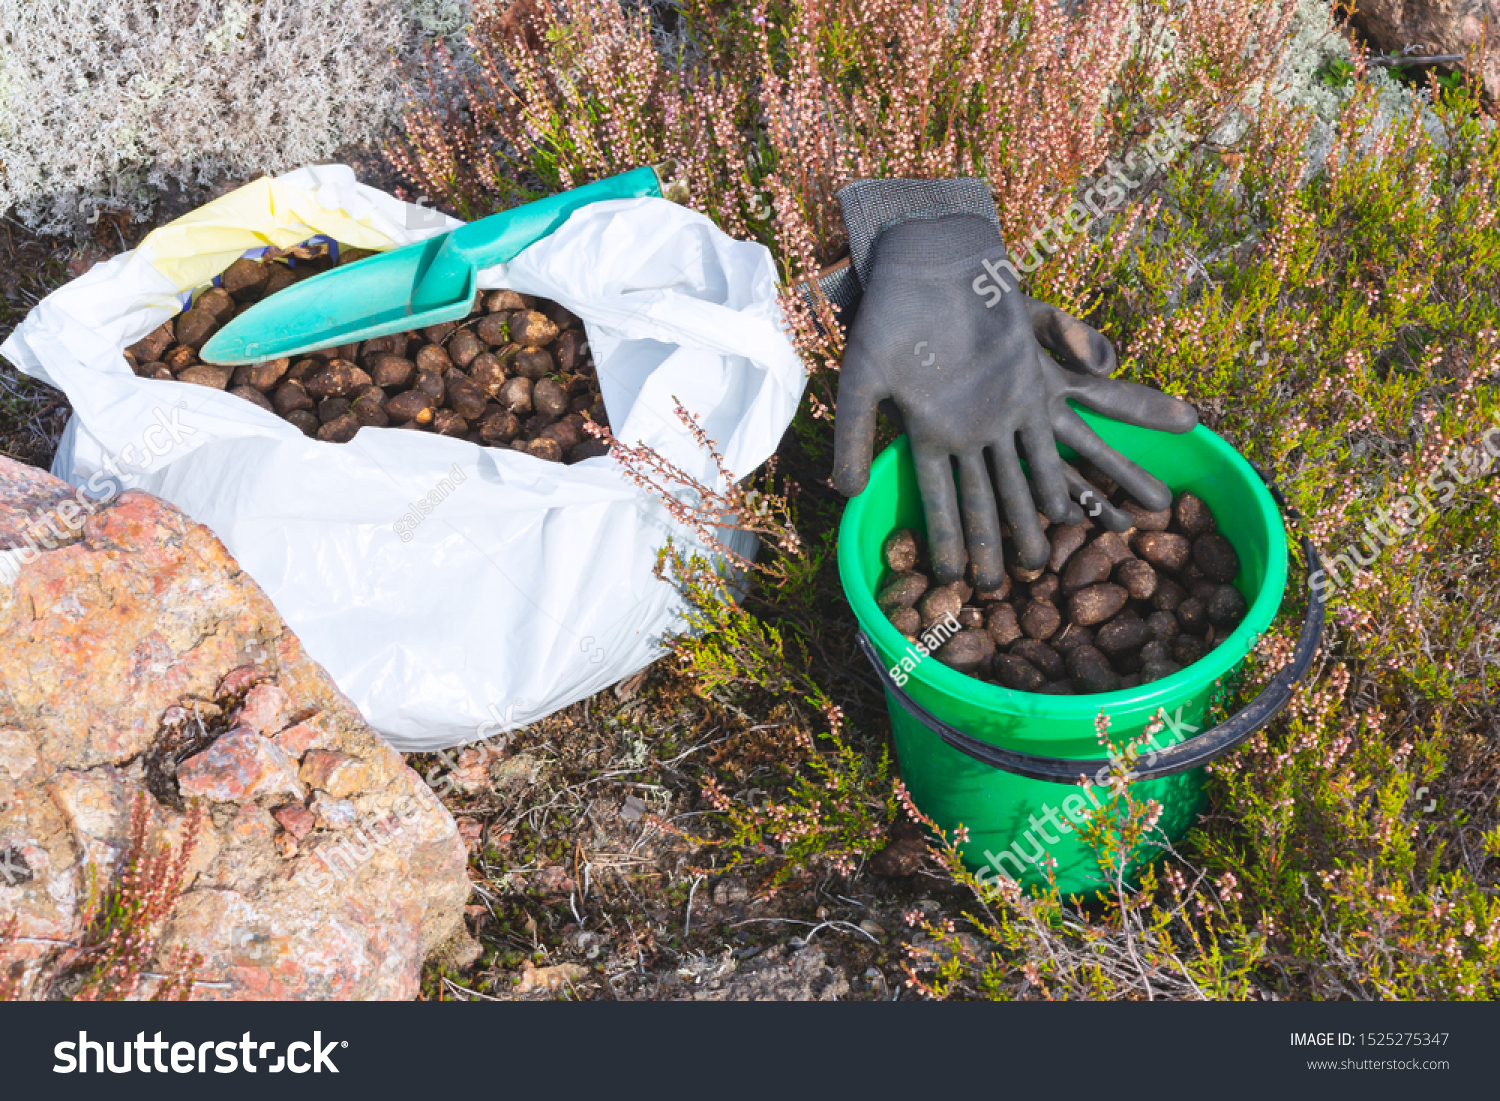Elk: (236, 263, 566, 445), (944, 482, 1214, 659)
